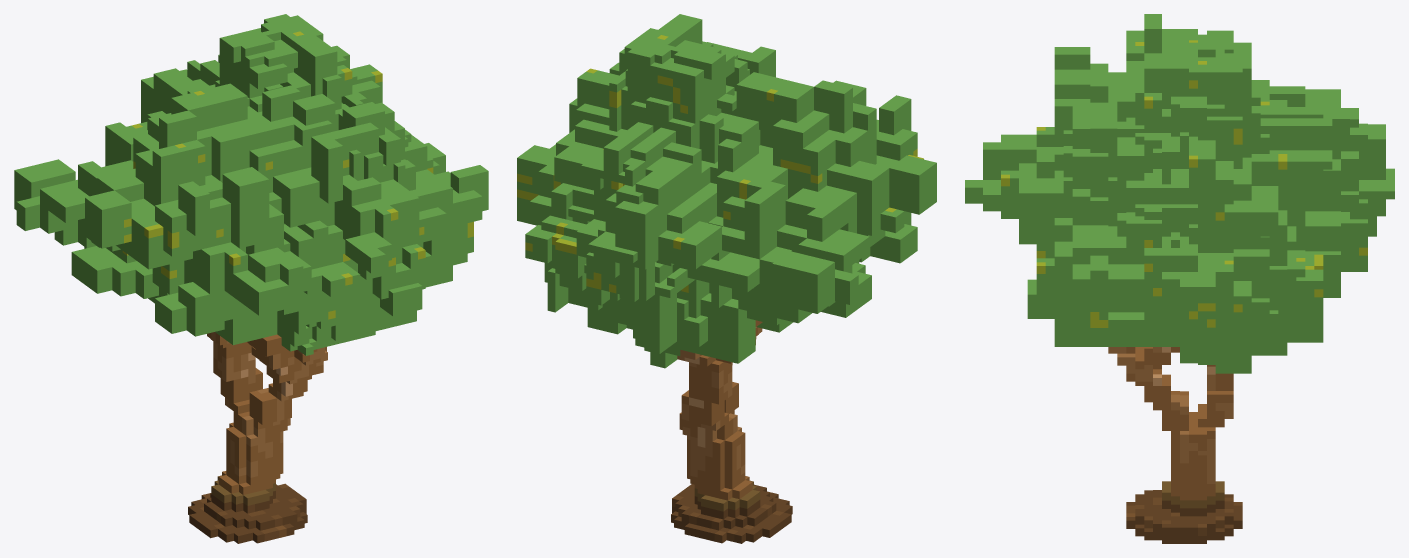
File: 1_2 pitang.obj
The picture shows the model from 3 angles, left to right: view 1: azimuth 30°, elevation 25°; view 2: azimuth 150°, elevation 25°; view 3: azimuth 270°, elevation 25°; orthographic projection. The views are drawn at different scales.
Bounding box in the file's own units: 5 × 6 × 4.8.
Materials: 1 (1 with a texture image).
